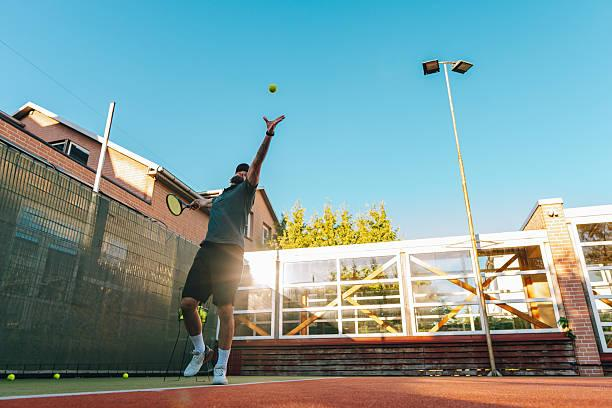ball_tennis: (267, 83, 277, 93), (9, 371, 16, 382), (55, 373, 61, 379), (124, 373, 129, 379)
